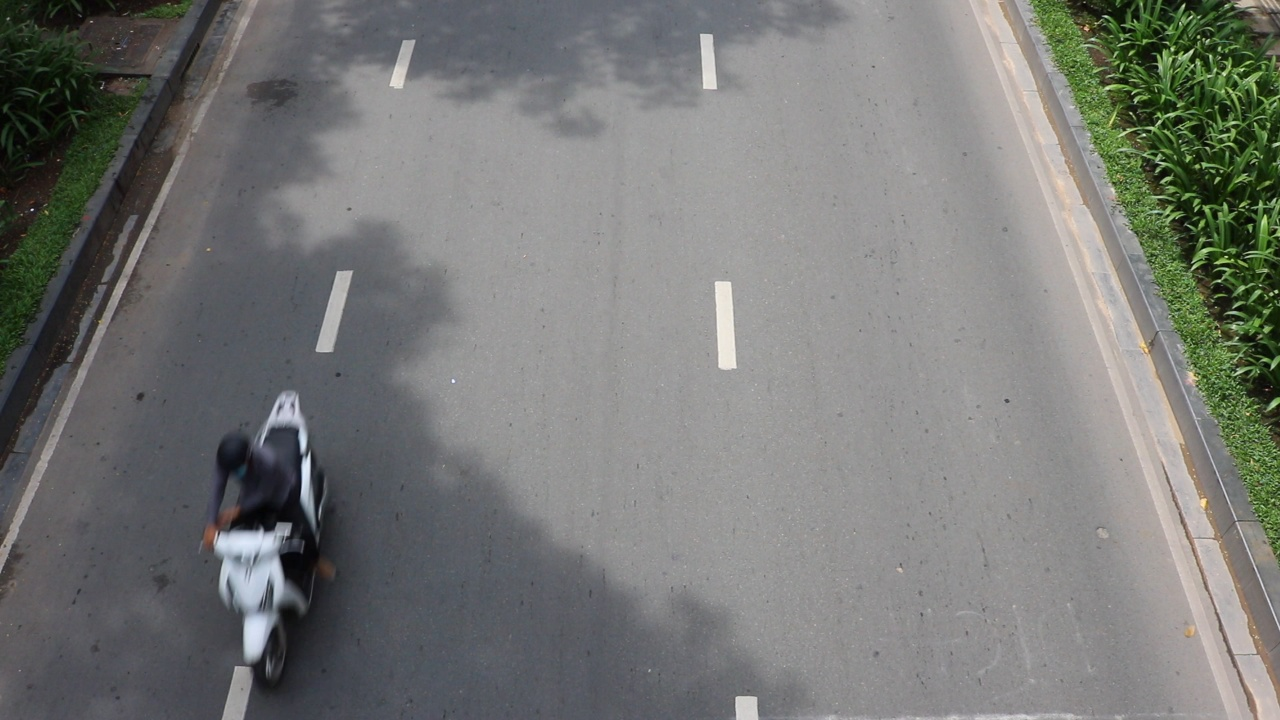motorcycle: (206, 511, 309, 682)
